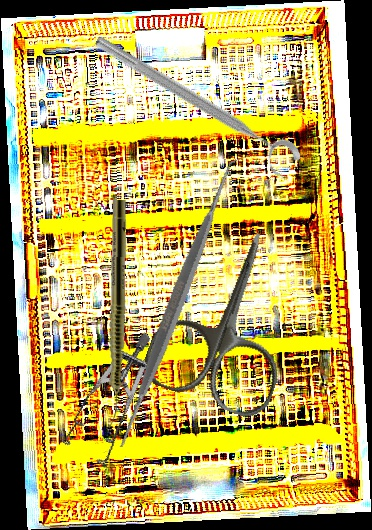Fixation Ring: (83, 29, 306, 183)
Handpiece: (105, 199, 128, 429)
Iris Scissors: (137, 211, 323, 424)
Spatula Surgical: (27, 154, 327, 454)
Speculum: (35, 330, 195, 482)
